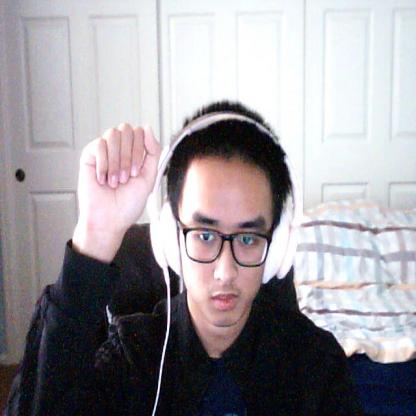fist: (75, 121, 162, 230)
